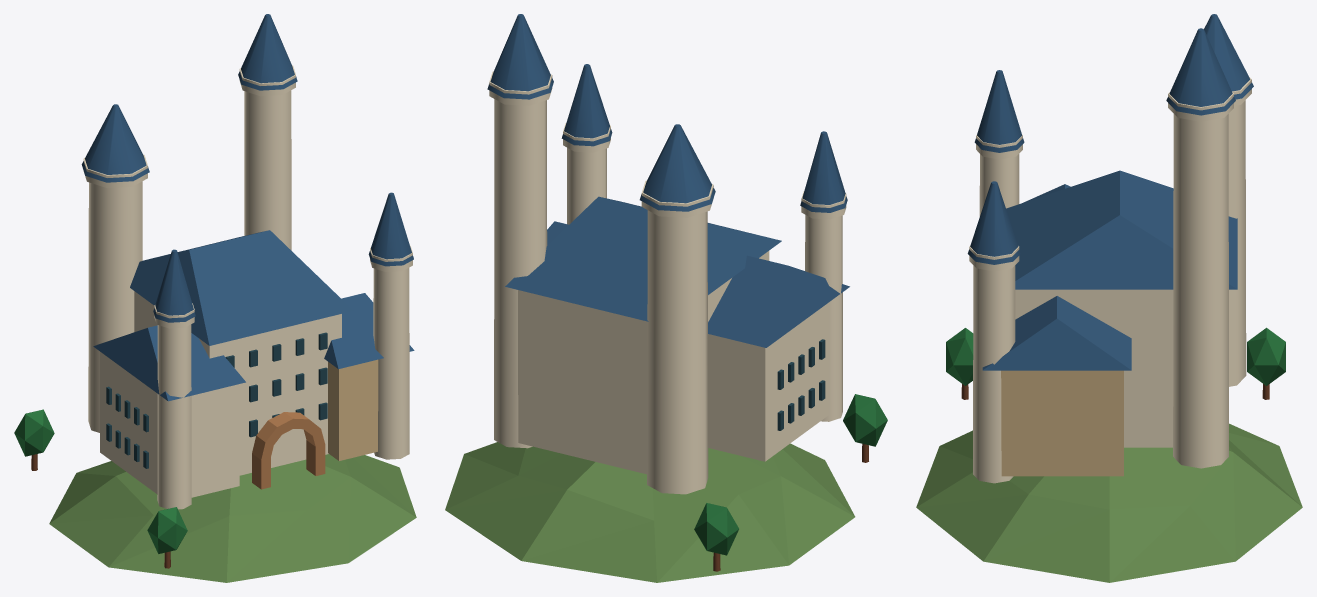
Rendered from neuschwanstein.glb.
3 views of the same model, side by side, from view 1: azimuth 30°, elevation 25°; view 2: azimuth 150°, elevation 25°; view 3: azimuth 270°, elevation 25° (orthographic). The views are drawn at different scales.
Parts seen in each view (by area): view 1: towers_E2D9C3, base_8B937B, roof_526B75, body_E2D9C3, body_D1C4A8, detail, body_BEAD8C, landscape_657F58; view 2: towers_E2D9C3, base_8B937B, body_E2D9C3, roof_526B75, landscape_657F58, detail; view 3: base_8B937B, roof_526B75, towers_E2D9C3, body_D1C4A8, body_E2D9C3, landscape_657F58.
Part boxes in pixels (x1,y1,x2,y2): towers_E2D9C3: (83,65,412,509); base_8B937B: (49,454,416,582); roof_526B75: (81,14,414,401); body_E2D9C3: (100,291,341,497); body_D1C4A8: (328,359,378,460); detail: (106,332,327,468); body_BEAD8C: (252,412,325,489); landscape_657F58: (14,409,187,553); towers_E2D9C3: (489,71,846,494); base_8B937B: (445,442,855,582); body_E2D9C3: (518,251,829,474); roof_526B75: (487,14,849,347); landscape_657F58: (694,394,887,555); detail: (777,339,825,430); base_8B937B: (916,423,1302,582); roof_526B75: (967,14,1253,370); towers_E2D9C3: (969,77,1251,483); body_D1C4A8: (1001,370,1123,476); body_E2D9C3: (1015,289,1173,447); landscape_657F58: (946,327,1285,385).
Size of the model in its own units: 1 by 1.32 by 0.9231.
